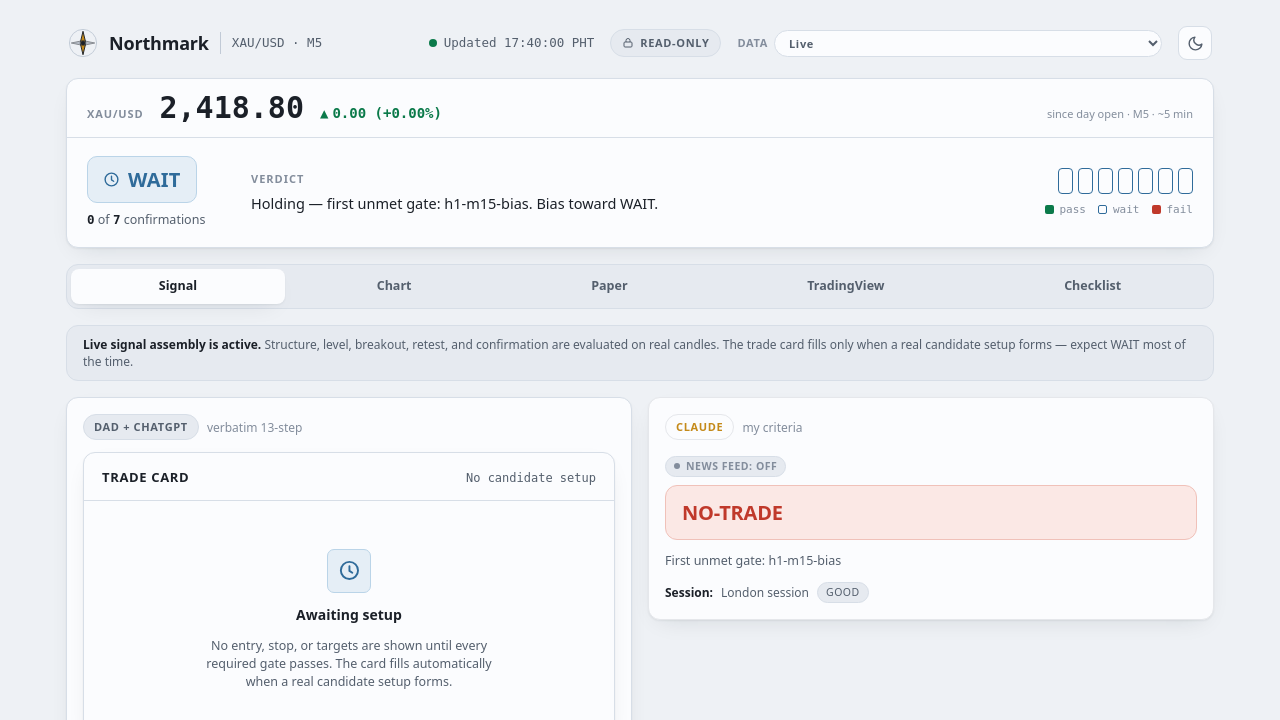
it: renders the price chart with a timeframe toggle in the Chart tab
What coordinates should you click on to do the following:
click the tab "Chart"
I would click on:
 (394, 286)
Its box is [289,269,499,304].
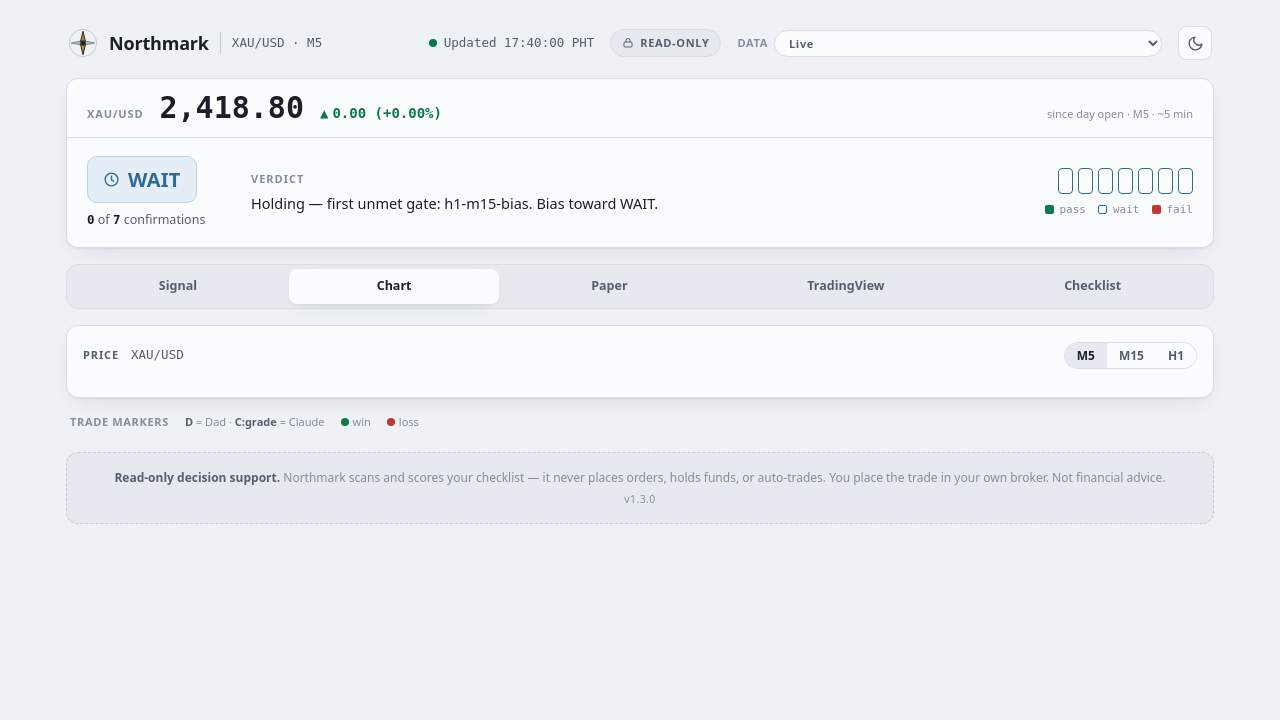
Now the button "M5" is shown, box [1065,342,1107,368]
